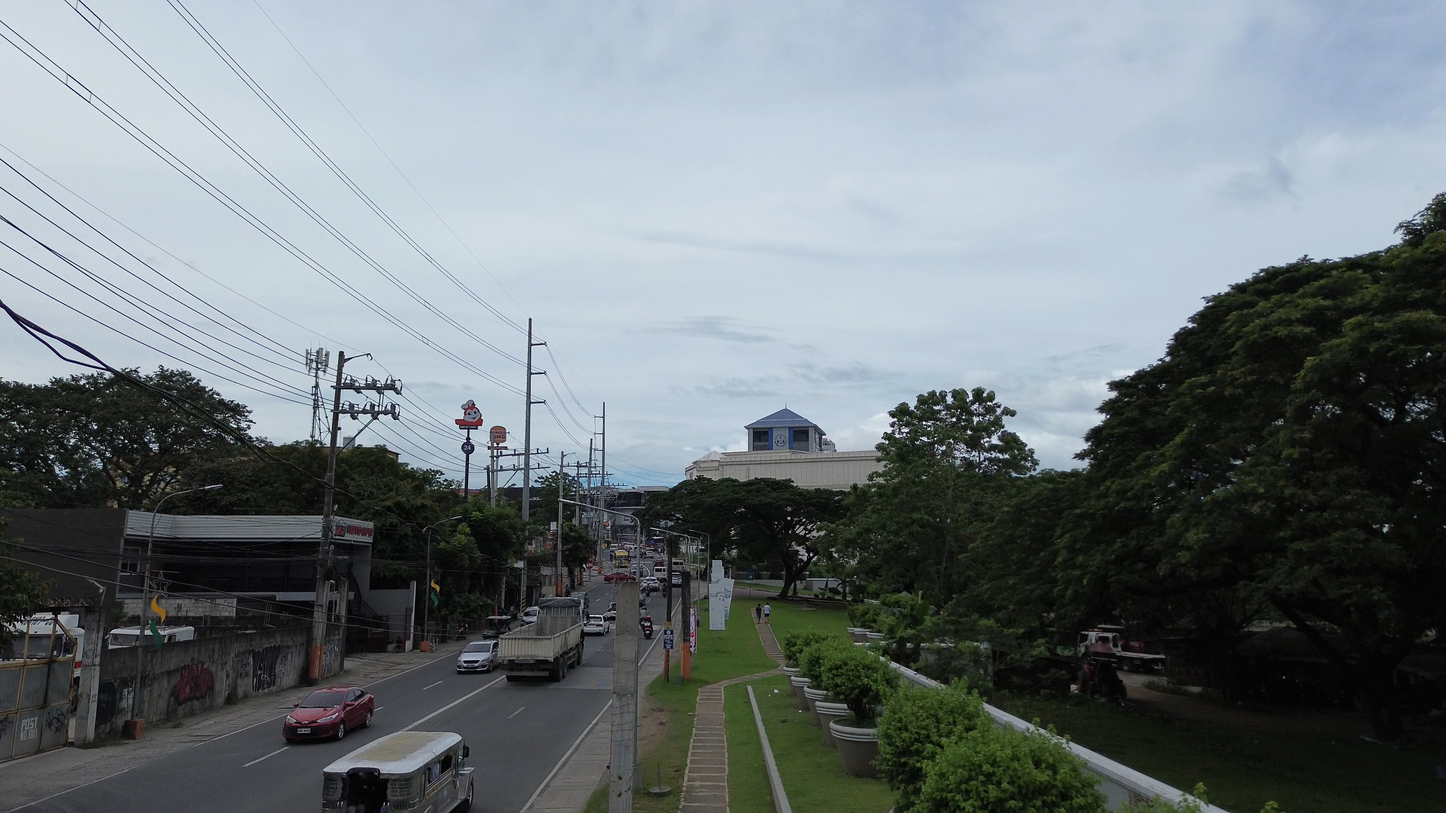car: (604, 571, 636, 583), (602, 603, 616, 621), (642, 576, 660, 588)
truck: (498, 597, 583, 681), (1077, 625, 1165, 671)
vehicle: (323, 731, 473, 813), (0, 612, 85, 675), (283, 686, 374, 740), (1077, 625, 1165, 671), (455, 638, 498, 673), (107, 627, 139, 648), (583, 615, 611, 635), (520, 606, 539, 625), (640, 618, 653, 639), (603, 602, 616, 621), (641, 576, 660, 588), (670, 570, 682, 586)
